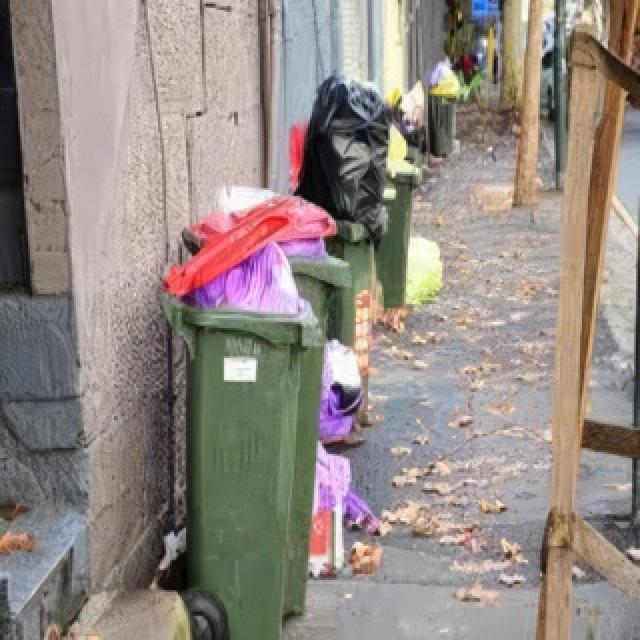Trashbag: (293, 75, 400, 240)
